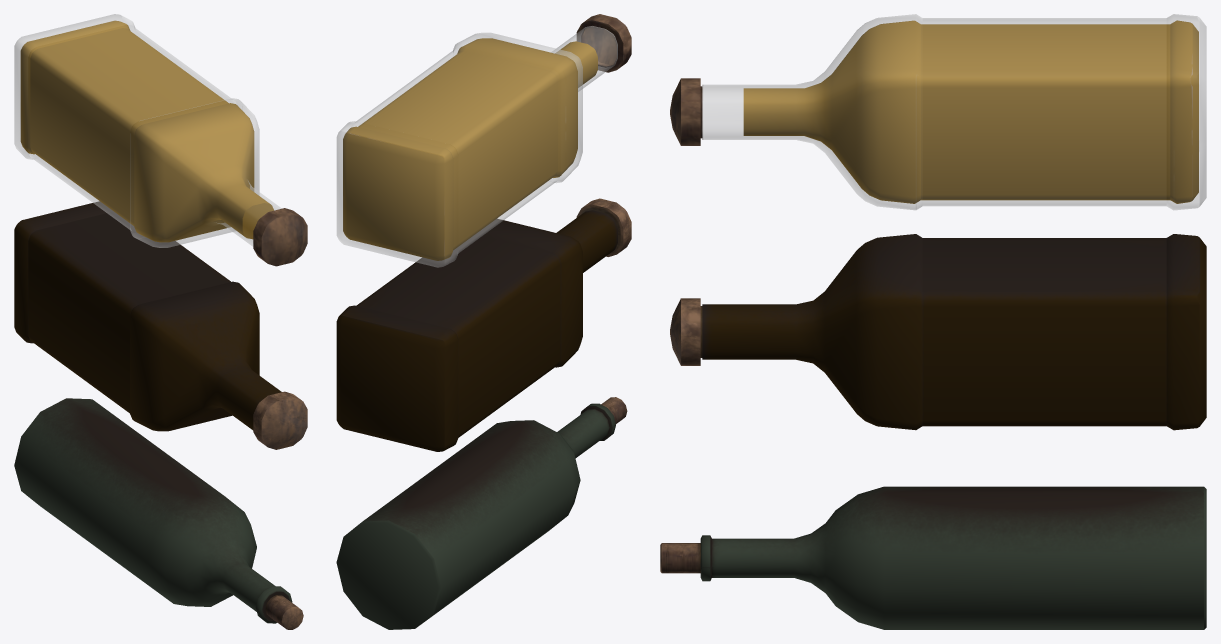
File: whiskey-and-wine-low-poly-bottles-99999f.glb
3 views of the same model, side by side, from view 1: azimuth 30°, elevation 25°; view 2: azimuth 150°, elevation 25°; view 3: azimuth 270°, elevation 25° (orthographic). The views are drawn at different scales.
Parts seen in each view (by area): view 1: PropMesh; view 2: PropMesh; view 3: PropMesh.
Boxes of the visible parts, box(x1,y1,x2,y2) form: PropMesh: box(14, 14, 307, 629); PropMesh: box(336, 14, 631, 629); PropMesh: box(660, 14, 1206, 629).
Bounding box in the file's own units: 0.5339 × 2.2 × 1.87.
Materials: 3 (3 with a texture image).
